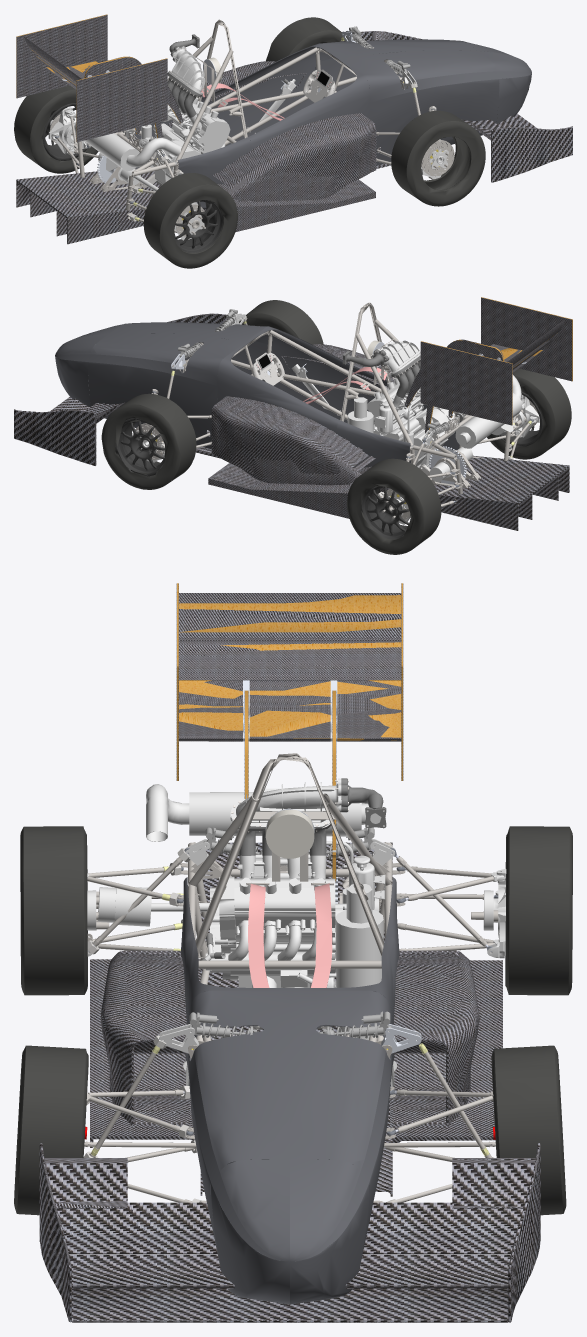
File: car.glb
3 views of the same model, one above another, from view 1: azimuth 30°, elevation 25°; view 2: azimuth 150°, elevation 25°; view 3: azimuth 270°, elevation 25° (orthographic). The views are drawn at different scales.
Visible parts, largest first — view 1: A04P101-1, S00-01-1/S05-03-1/S05p002r01-1, S00-01-1/S05-02-1/S05p002r01-1, A05P102-1, Diffuser_Assembly-1/Main_Diffuser-1, A02-1/P105-3 Right CF Sheet-1, A02-1/P104-3 Right CF Sheet-1, A01-1, CS01r02-2, A05P101-1, Diffuser_Assembly-1/Right Side Diffuser-1, Engine Assm^Powertrain Assembly-1/Engine Low Poly Features-1 (+10 smaller); view 2: A04P101-1, S00-01-1/S05-03-1/S05p002r01-1, A05P102-1, S00-01-1/S05-02-1/S05p002r01-1, Diffuser_Assembly-1/Main_Diffuser-1, A02-1/P104-1 Left CF Sheet-1, A01-1, A02-1/P105-1 Left CF Sheet-1, CS01r02-2, Diffuser_Assembly-1/Left Side Diffuser-1, A05P101-1, S00-01-1/S05-03-1/S05p001r01-1 (+13 smaller); view 3: A04P101-1, A01-1, S00-01-1/S05-03-1/S05p002r01-1, S00-01-1/S05-02-1/S05p002r01-1, A05P102-1, A05P101-1, CS01r02-2, A02-1/P102-2 CF Skin-1, Engine Assm^Powertrain Assembly-1/Engine Low Poly Features-1, A02-1/P103-2 CF Skin-1, Diffuser_Assembly-1/Left Side Diffuser-1, FullCARASSEMBLYPart-1 (+17 smaller).
Boxes of the visible parts, x1,y1,x2,y2 form: A04P101-1: [127, 39, 531, 209]; S00-01-1/S05-03-1/S05p002r01-1: [14, 85, 237, 268]; S00-01-1/S05-02-1/S05p002r01-1: [266, 17, 485, 206]; A05P102-1: [168, 61, 376, 201]; Diffuser_Assembly-1/Main_Diffuser-1: [16, 147, 390, 244]; A02-1/P105-3 Right CF Sheet-1: [76, 59, 167, 142]; A02-1/P104-3 Right CF Sheet-1: [16, 15, 107, 98]; A01-1: [360, 31, 572, 182]; CS01r02-2: [77, 19, 429, 210]; A05P101-1: [167, 63, 373, 200]; Diffuser_Assembly-1/Right Side Diffuser-1: [202, 179, 375, 232]; Engine Assm^Powertrain Assembly-1/Engine Low Poly Features-1: [144, 97, 230, 185]; A04P101-1: [55, 322, 461, 488]; S00-01-1/S05-03-1/S05p002r01-1: [347, 368, 571, 554]; A05P102-1: [211, 344, 422, 485]; S00-01-1/S05-02-1/S05p002r01-1: [101, 300, 323, 489]; Diffuser_Assembly-1/Main_Diffuser-1: [196, 430, 569, 530]; A02-1/P104-1 Left CF Sheet-1: [420, 341, 512, 425]; A01-1: [14, 313, 227, 465]; A02-1/P105-1 Left CF Sheet-1: [481, 297, 572, 381]; CS01r02-2: [157, 302, 510, 494]; Diffuser_Assembly-1/Left Side Diffuser-1: [208, 463, 388, 518]; A05P101-1: [213, 346, 377, 484]; S00-01-1/S05-03-1/S05p001r01-1: [361, 392, 542, 538]; A04P101-1: [180, 877, 399, 1304]; A01-1: [39, 1143, 540, 1322]; S00-01-1/S05-03-1/S05p002r01-1: [20, 826, 572, 995]; S00-01-1/S05-02-1/S05p002r01-1: [14, 1045, 566, 1215]; A05P102-1: [100, 953, 479, 1127]; A05P101-1: [109, 950, 470, 1125]; CS01r02-2: [188, 753, 392, 1042]; A02-1/P102-2 CF Skin-1: [179, 641, 401, 680]; Engine Assm^Powertrain Assembly-1/Engine Low Poly Features-1: [210, 876, 346, 987]; A02-1/P103-2 CF Skin-1: [179, 593, 401, 641]; Diffuser_Assembly-1/Left Side Diffuser-1: [392, 960, 502, 1142]; FullCARASSEMBLYPart-1: [230, 778, 386, 855].
Bounding box in the file's own units: 3.22 × 1.12 × 1.72.
55 materials, 4 textured.
